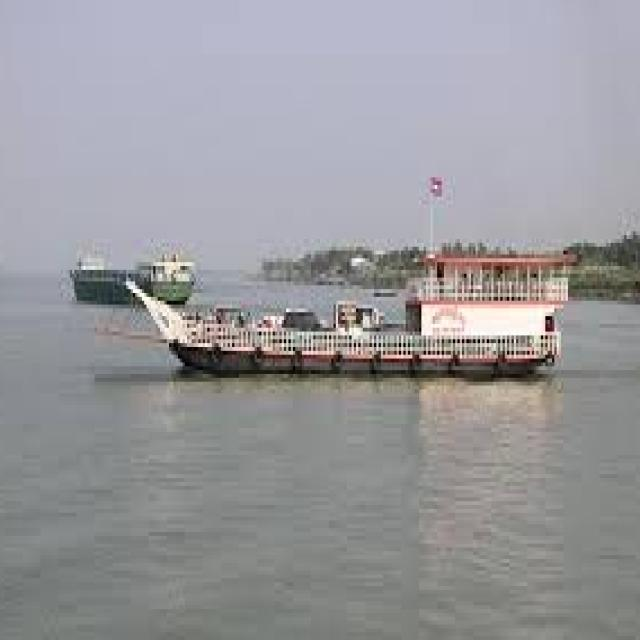cargoship: (142, 230, 578, 384), (67, 220, 182, 312)
